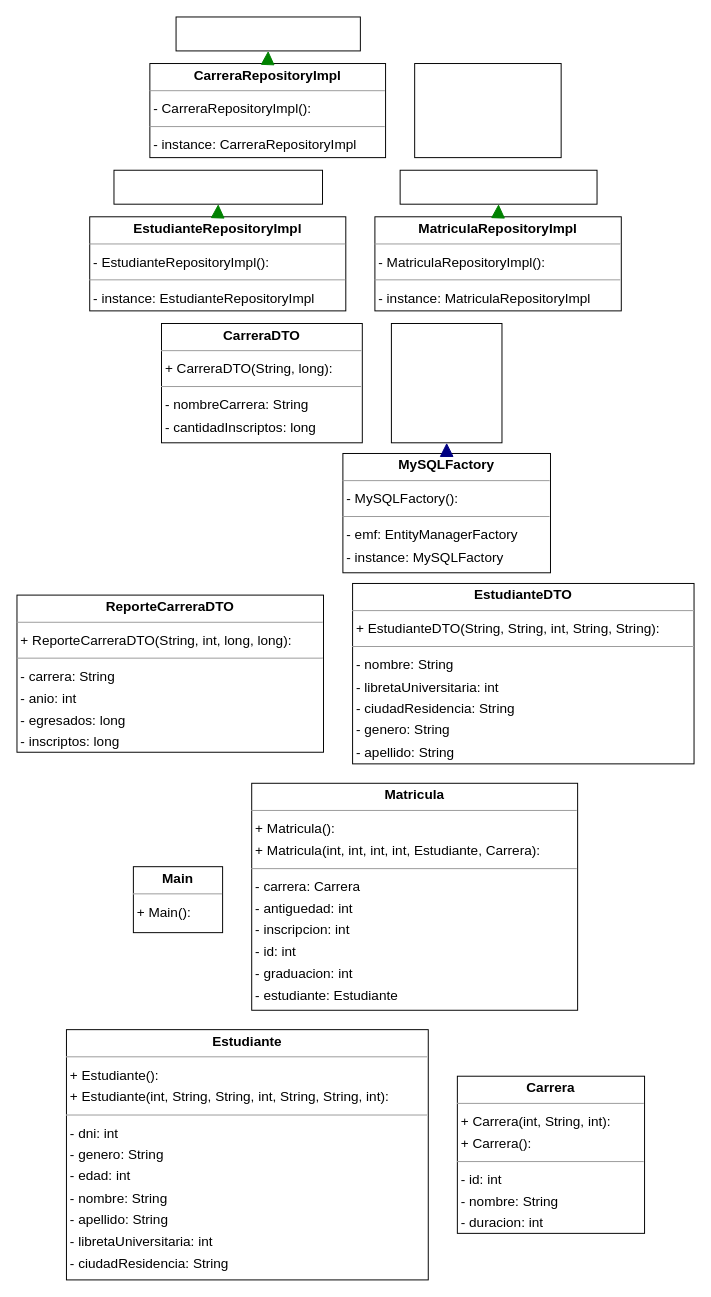
The diagram is 711 pixels wide and 1297 high, and some of its shapes have lost their labels. Here are the shapes that lost their labels. From the top down, the box of each, then its label:
(175, 16, 360, 51): <<interface>> CarreraRepository
(414, 63, 561, 158): Helper + Helper(Factory): - factory: Factory
(113, 169, 323, 204): <<interface>> EstudianteRepository
(399, 169, 597, 204): <<interface>> MatriculaRepository
(390, 323, 502, 443): Factory + Factory(): + DERBY: int + MYSQL: int
